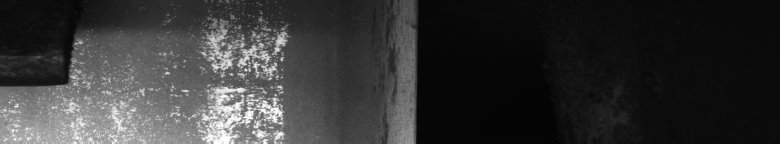kb: (60, 0, 290, 144)
